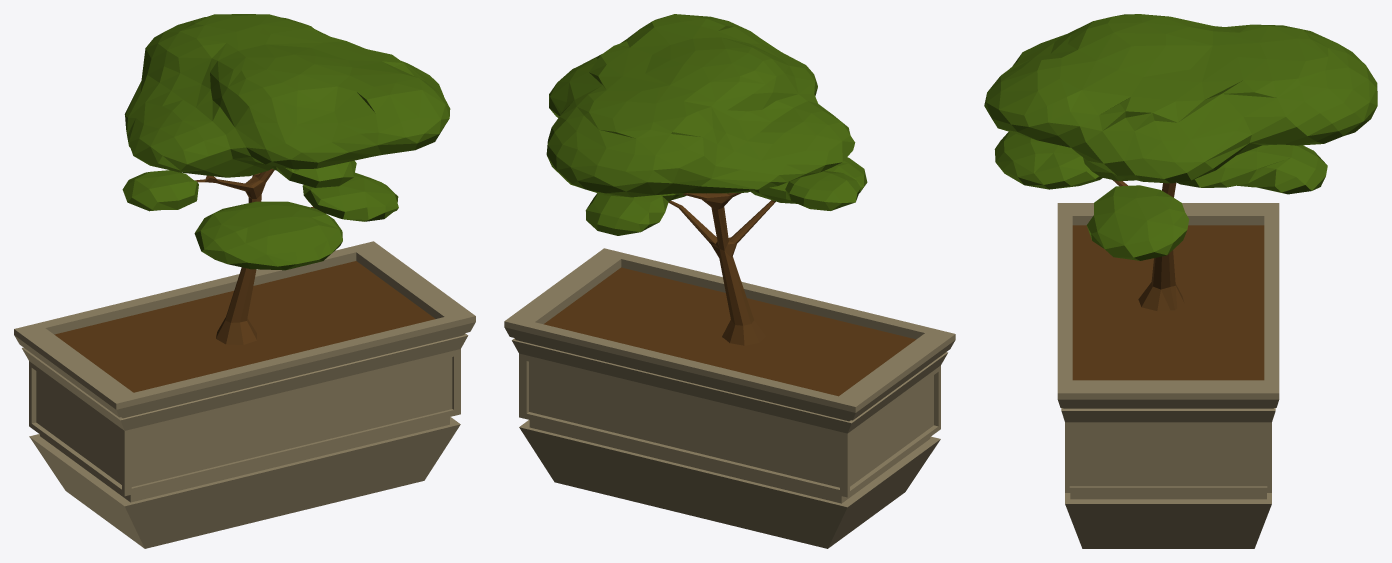
File: Bonsaipot.fbx
3 views of the same model, side by side, from view 1: azimuth 30°, elevation 25°; view 2: azimuth 150°, elevation 25°; view 3: azimuth 270°, elevation 25° (orthographic). The views are drawn at different scales.
Visible parts, largest first — view 1: Tree.002; view 2: Tree.002; view 3: Tree.002.
Part boxes in pixels (x1,y1,x2,y2): Tree.002: (14,14,475,548); Tree.002: (504,14,955,548); Tree.002: (984,14,1377,548).
Size of the model in its own units: 413 by 474 by 531.
